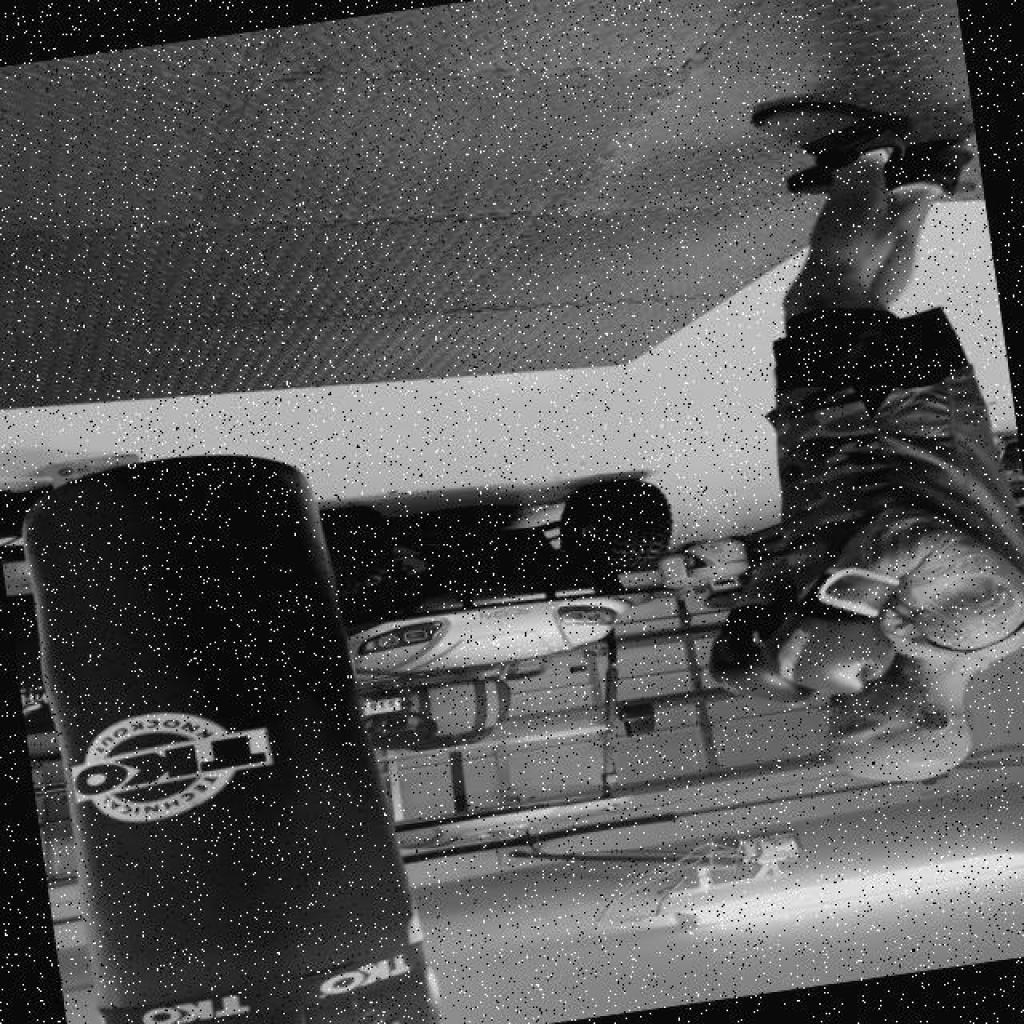hook: (600, 435, 1024, 864)
